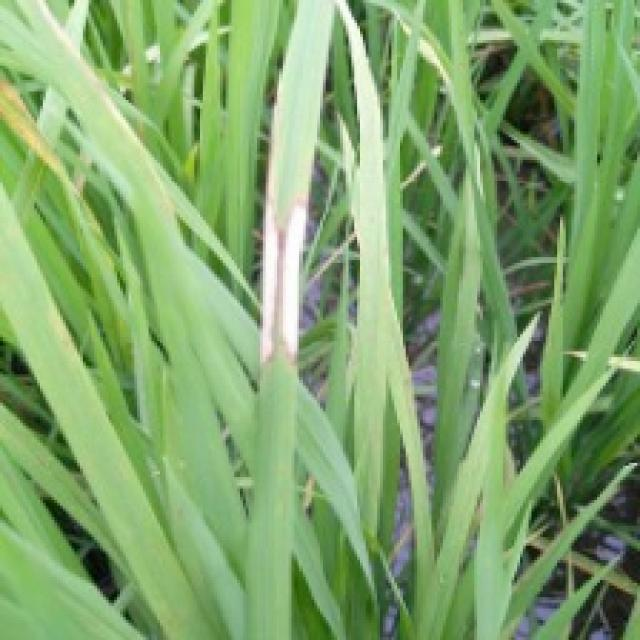Unhealthy: (261, 173, 309, 370)
